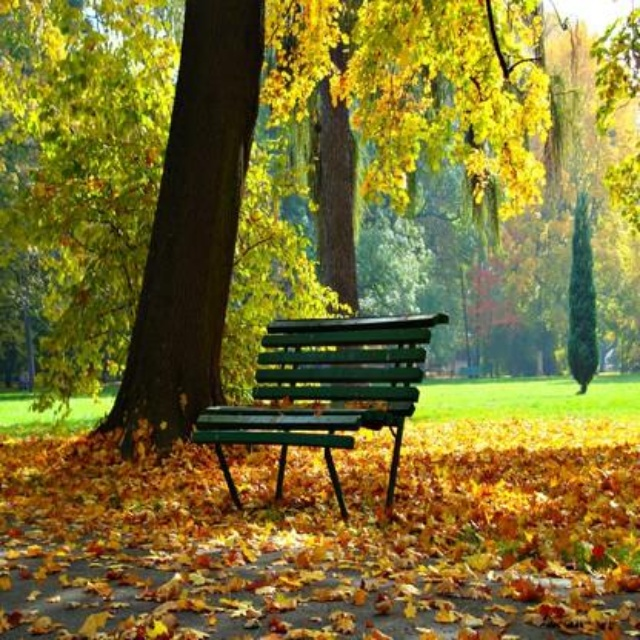obstacle: (192, 298, 460, 502)
